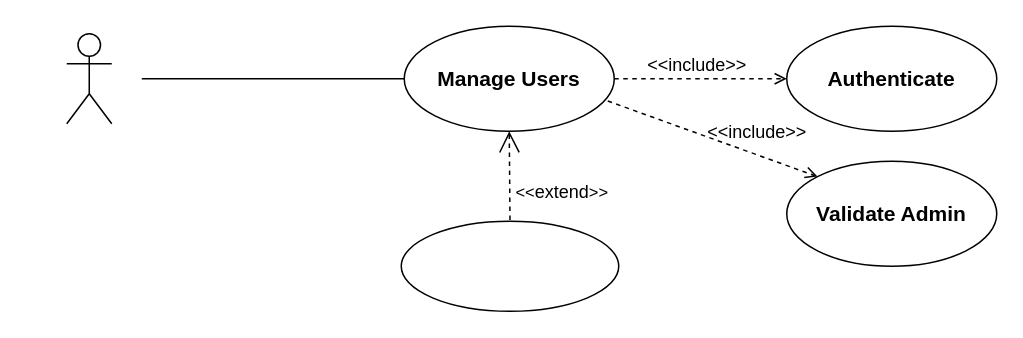
Image size: 1023x338. Some labels were removed from this diagram. Here are the shapes that lost their labels. From the top down, the centre of each, then its label:
point 88,78: Administrator
point 509,265: Manage Permissions
